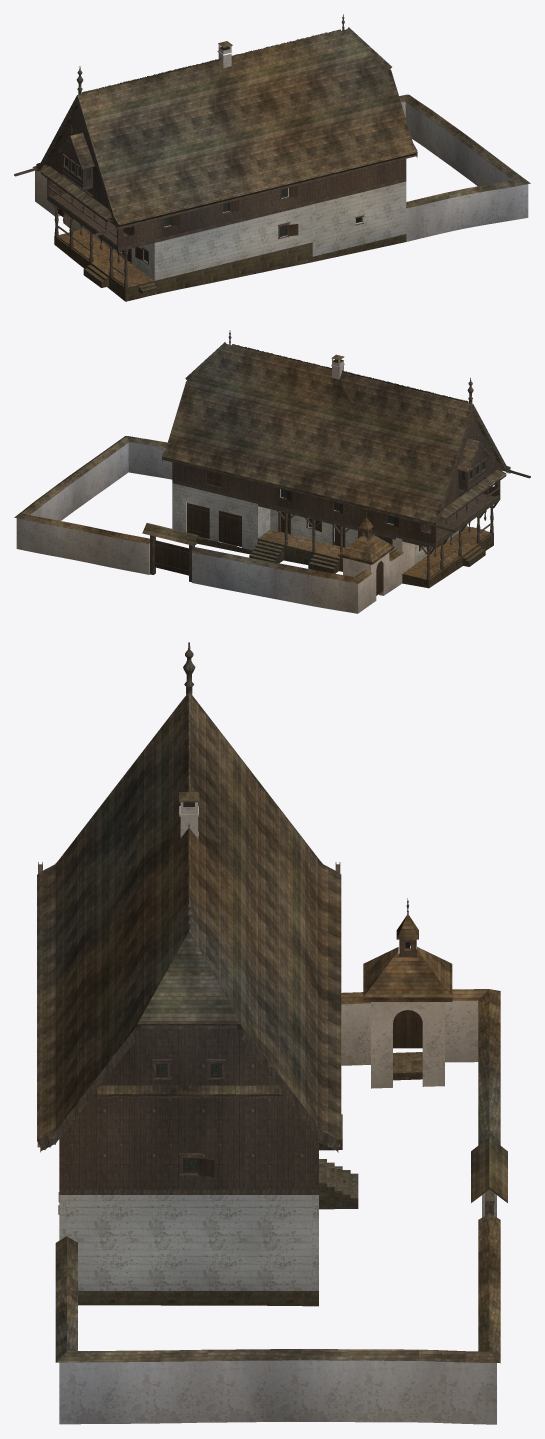
Rendered from lekki.glb.
The picture shows the model from 3 angles, top to bottom: view 1: azimuth 30°, elevation 25°; view 2: azimuth 150°, elevation 25°; view 3: azimuth 270°, elevation 25°; orthographic projection. The views are drawn at different scales.
Visible parts, largest first — view 1: Zajazd210_lekki; view 2: Zajazd210_lekki; view 3: Zajazd210_lekki.
Boxes of the visible parts, x1,y1,x2,y2 form: Zajazd210_lekki: [14, 14, 530, 301]; Zajazd210_lekki: [14, 330, 530, 613]; Zajazd210_lekki: [37, 642, 507, 1424].
Bounding box in the file's own units: 37.51 × 18.48 × 19.06.
Materials: 11 (10 with a texture image).
